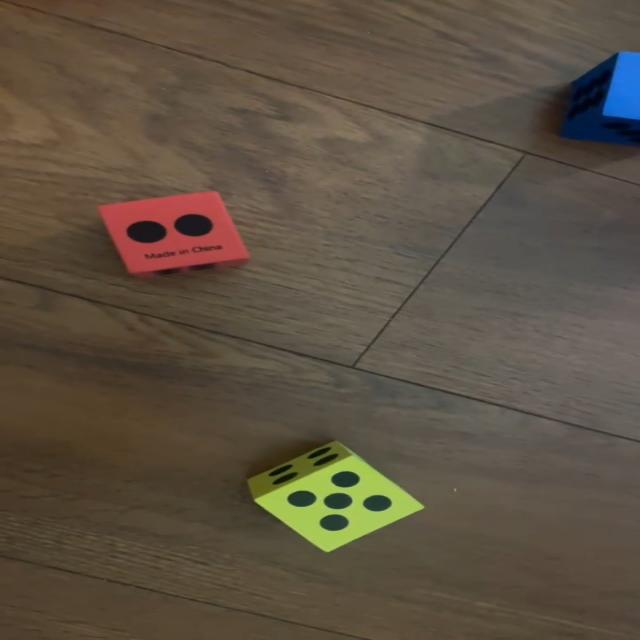blue_block: (562, 50, 640, 141)
red_block: (99, 190, 251, 276)
